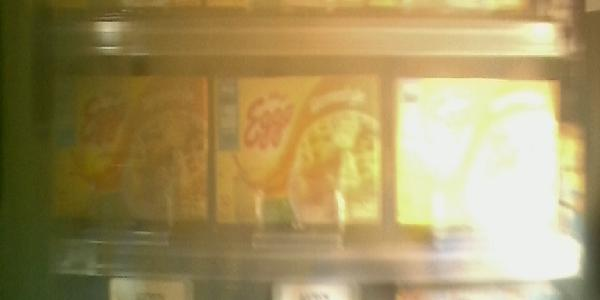icecream: (211, 76, 384, 231), (394, 79, 563, 230), (43, 74, 210, 226)
